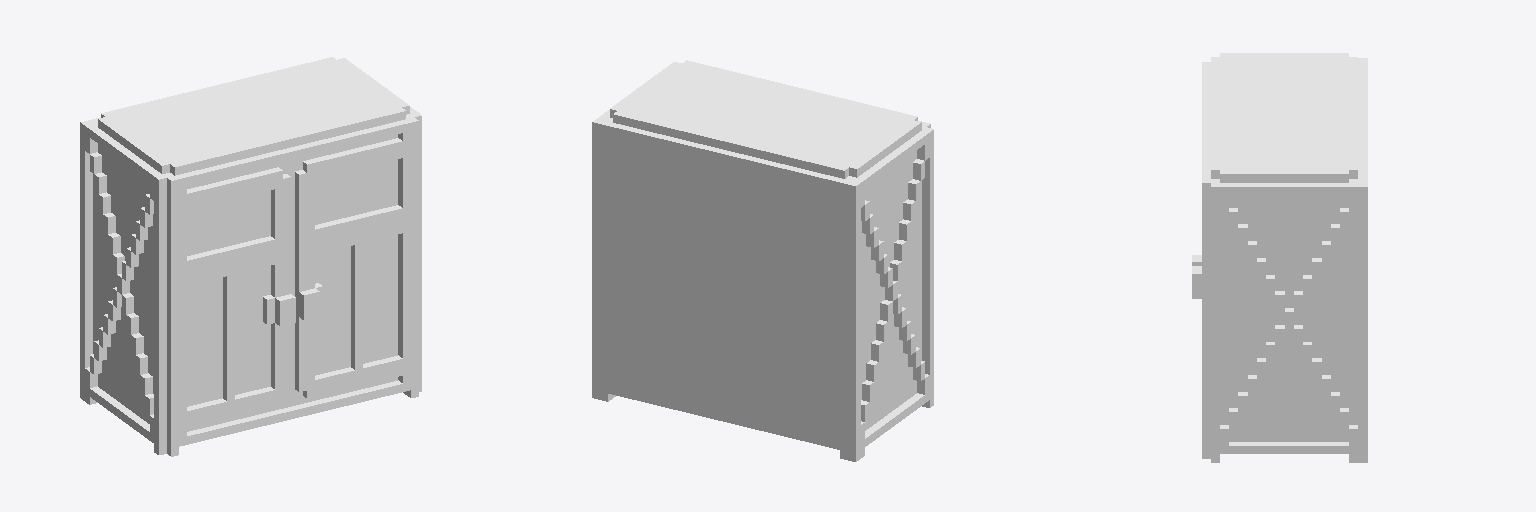
The model's file is prop_wardrobe_light_brown.obj.
3 views of the same model, side by side, from view 1: azimuth 30°, elevation 25°; view 2: azimuth 150°, elevation 25°; view 3: azimuth 270°, elevation 25° (orthographic).
Visible parts, largest first — view 1: object 1; view 2: object 1; view 3: object 1.
Boxes of the visible parts, x1,y1,x2,y2 form: object 1: [80, 57, 421, 456]; object 1: [592, 60, 933, 461]; object 1: [1192, 53, 1367, 462].
Size of the model in its own units: 3.3 by 3.4 by 1.9.